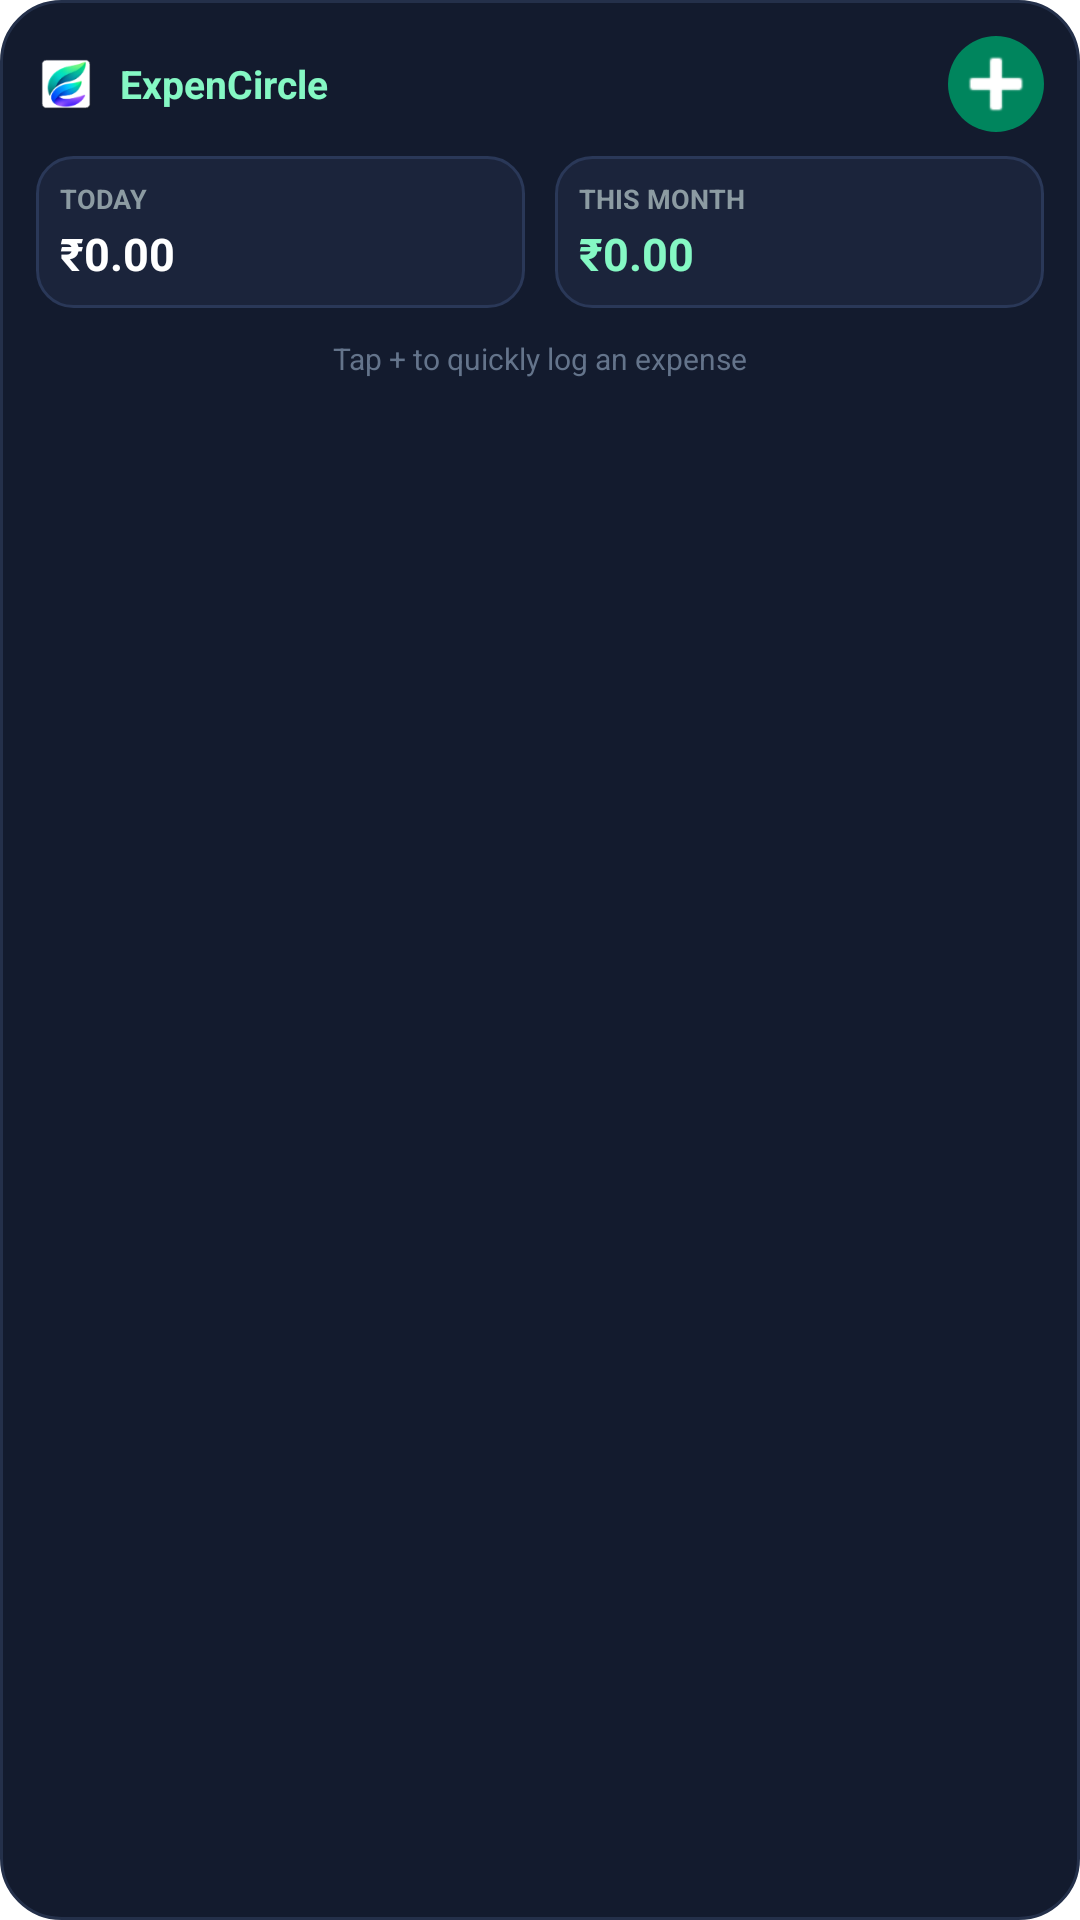

Named icons in this screenshot (1080px×1920px) and their centers, (x=x, y=y):
Quick Add Expense: (x=996, y=84)
